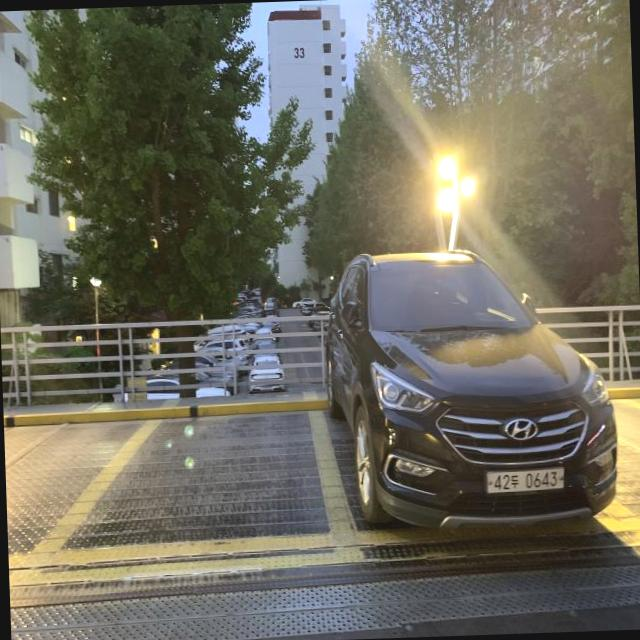car: (317, 228, 628, 552)
free: (18, 402, 337, 568)
